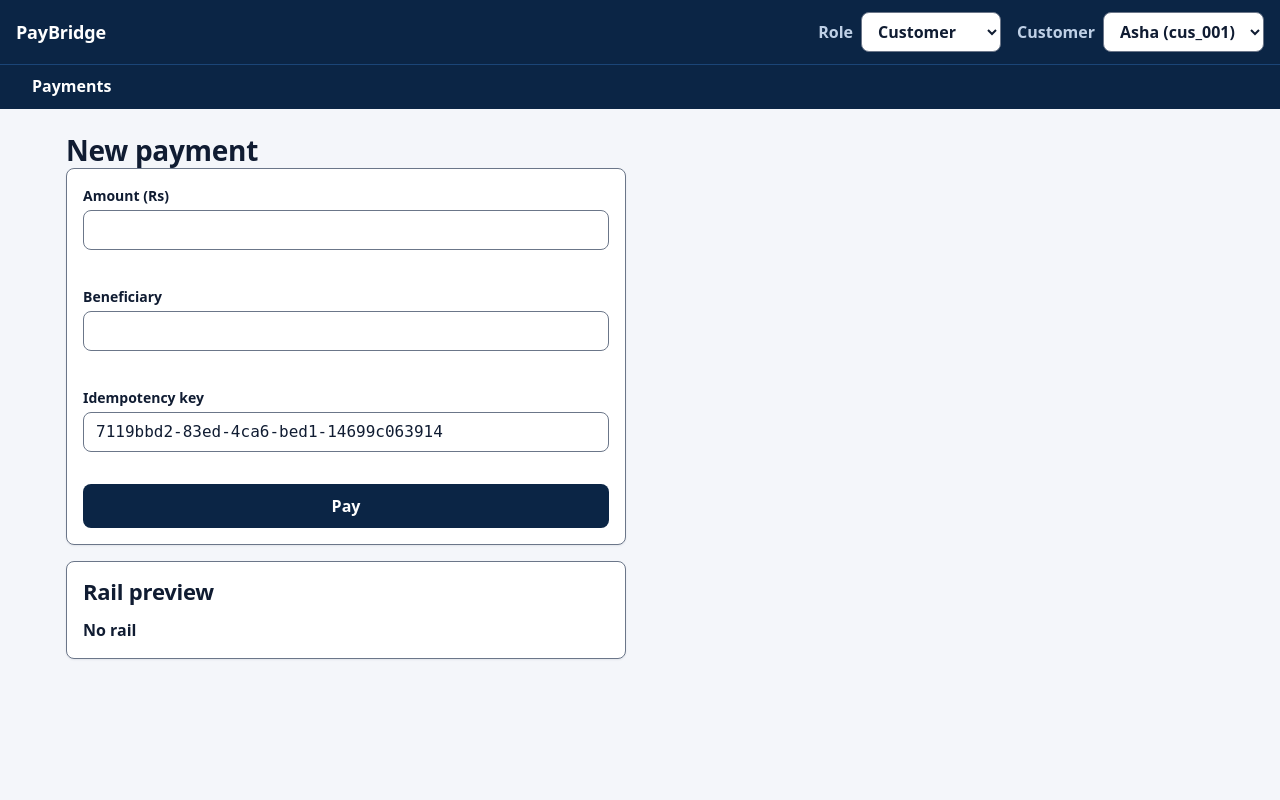
Test: 200 replay message and navigation
Type "5" into the field labelled "Amount (Rs)" at (346,230), box x1=83 y1=210 x2=609 y2=250
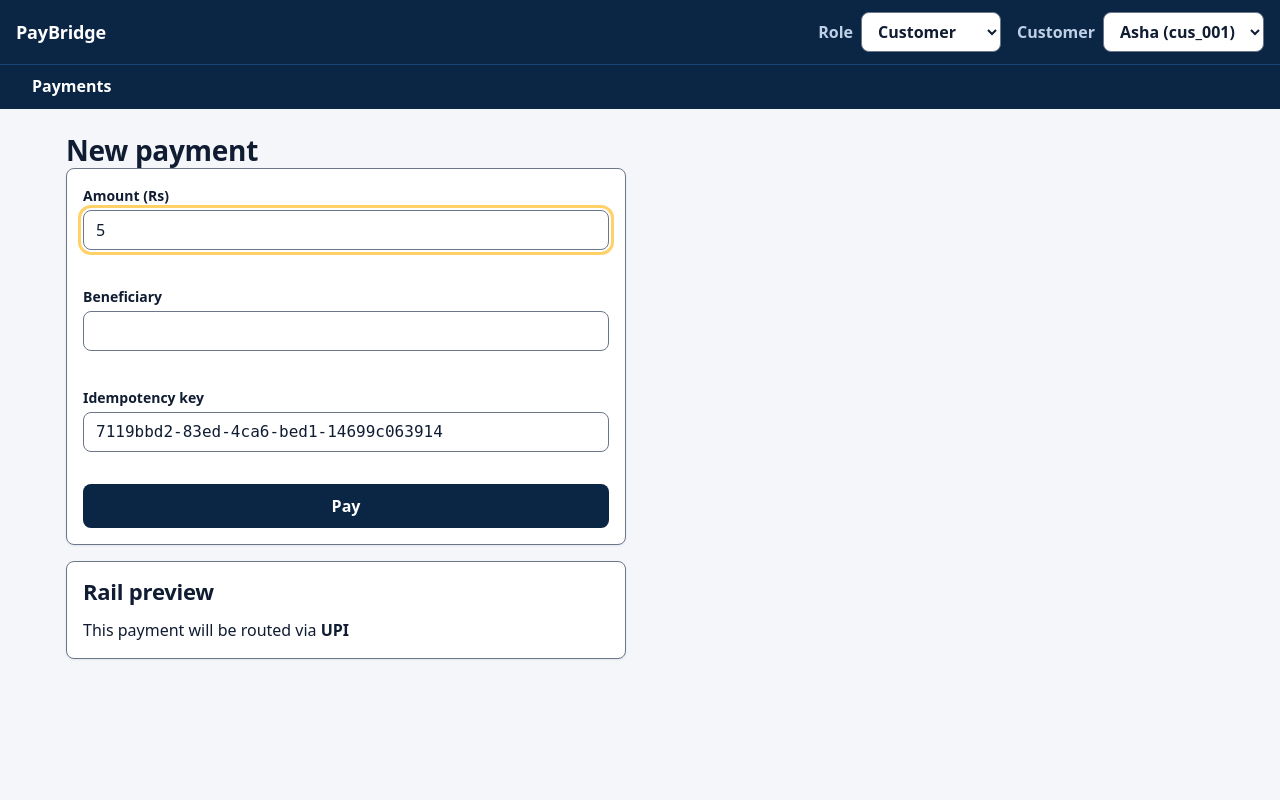
Type "Acme" into the field labelled "Beneficiary" at (346,331), box x1=83 y1=311 x2=609 y2=351
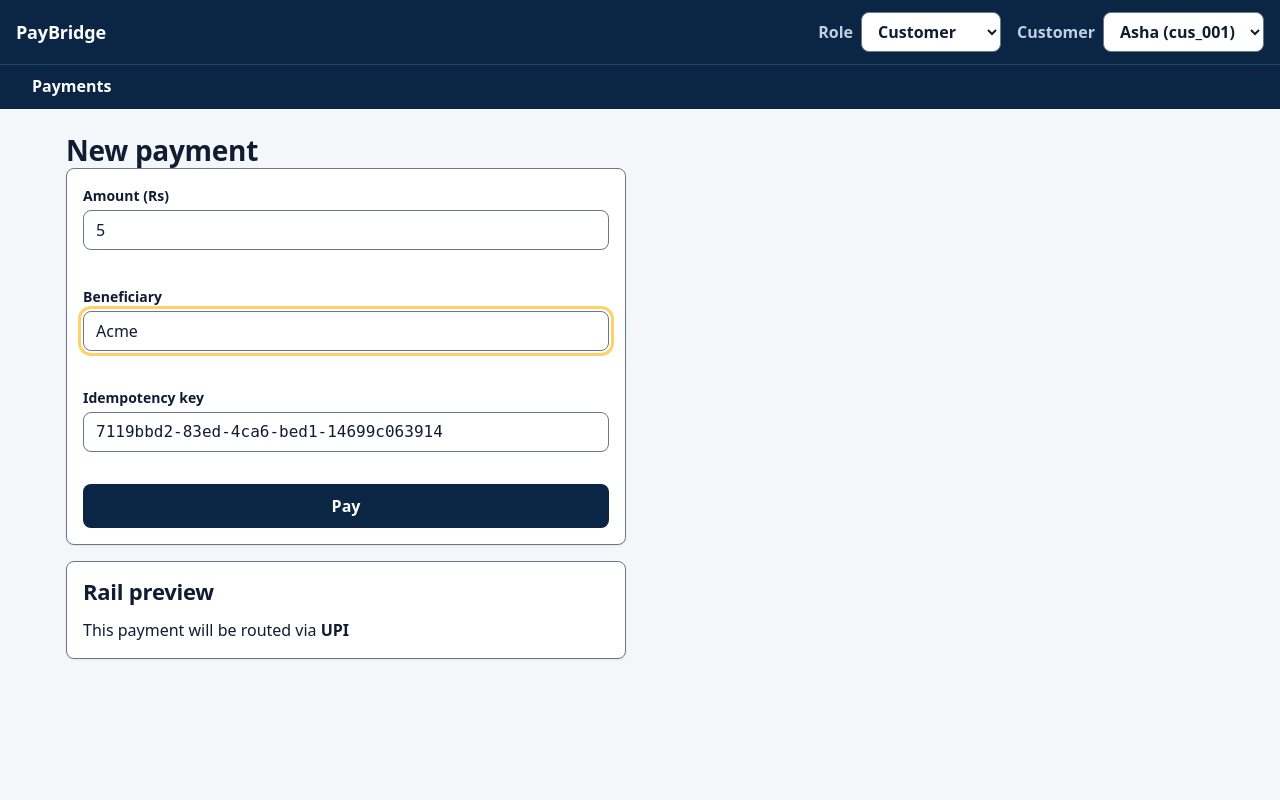
Click the button "Pay" at (346,506), box x1=83 y1=484 x2=609 y2=528
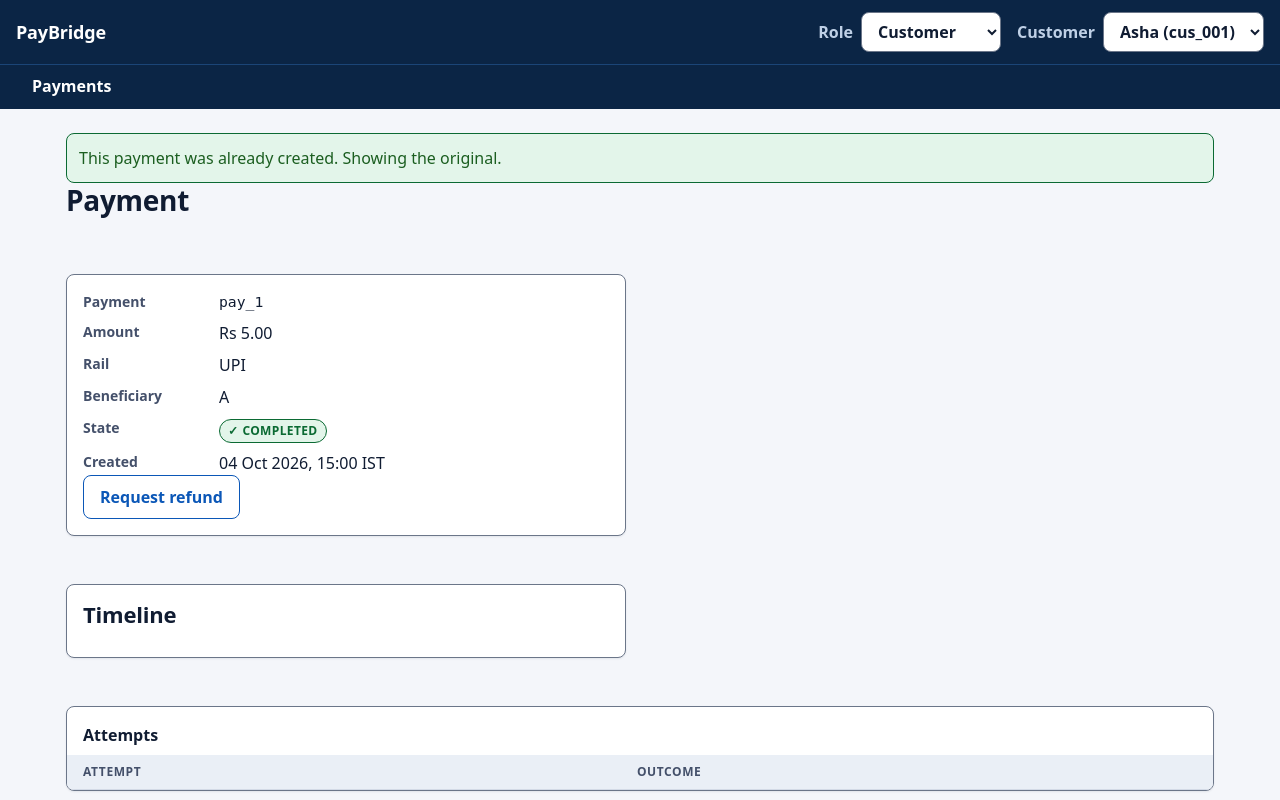
Expected: the text "This payment was already created. Showing the original." is shown, x1=66 y1=133 x2=1214 y2=183
Expected: the heading "New payment" is gone
